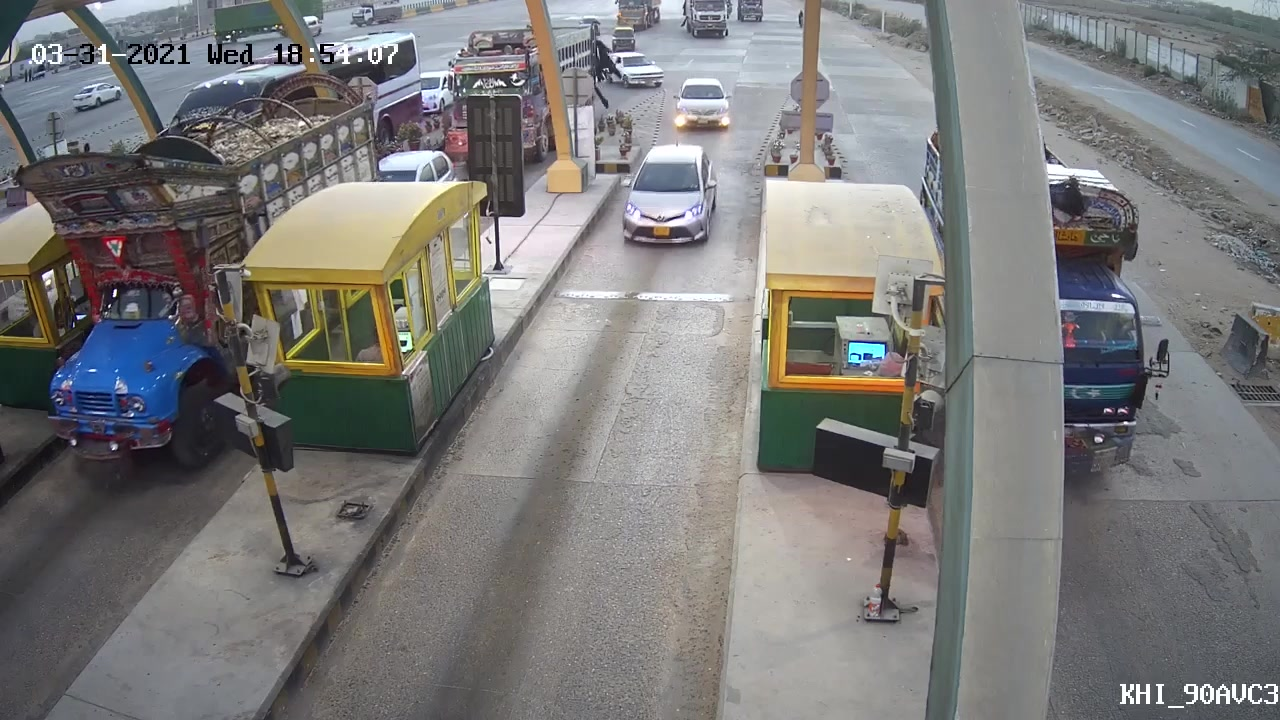F1: (610, 140, 719, 250)
